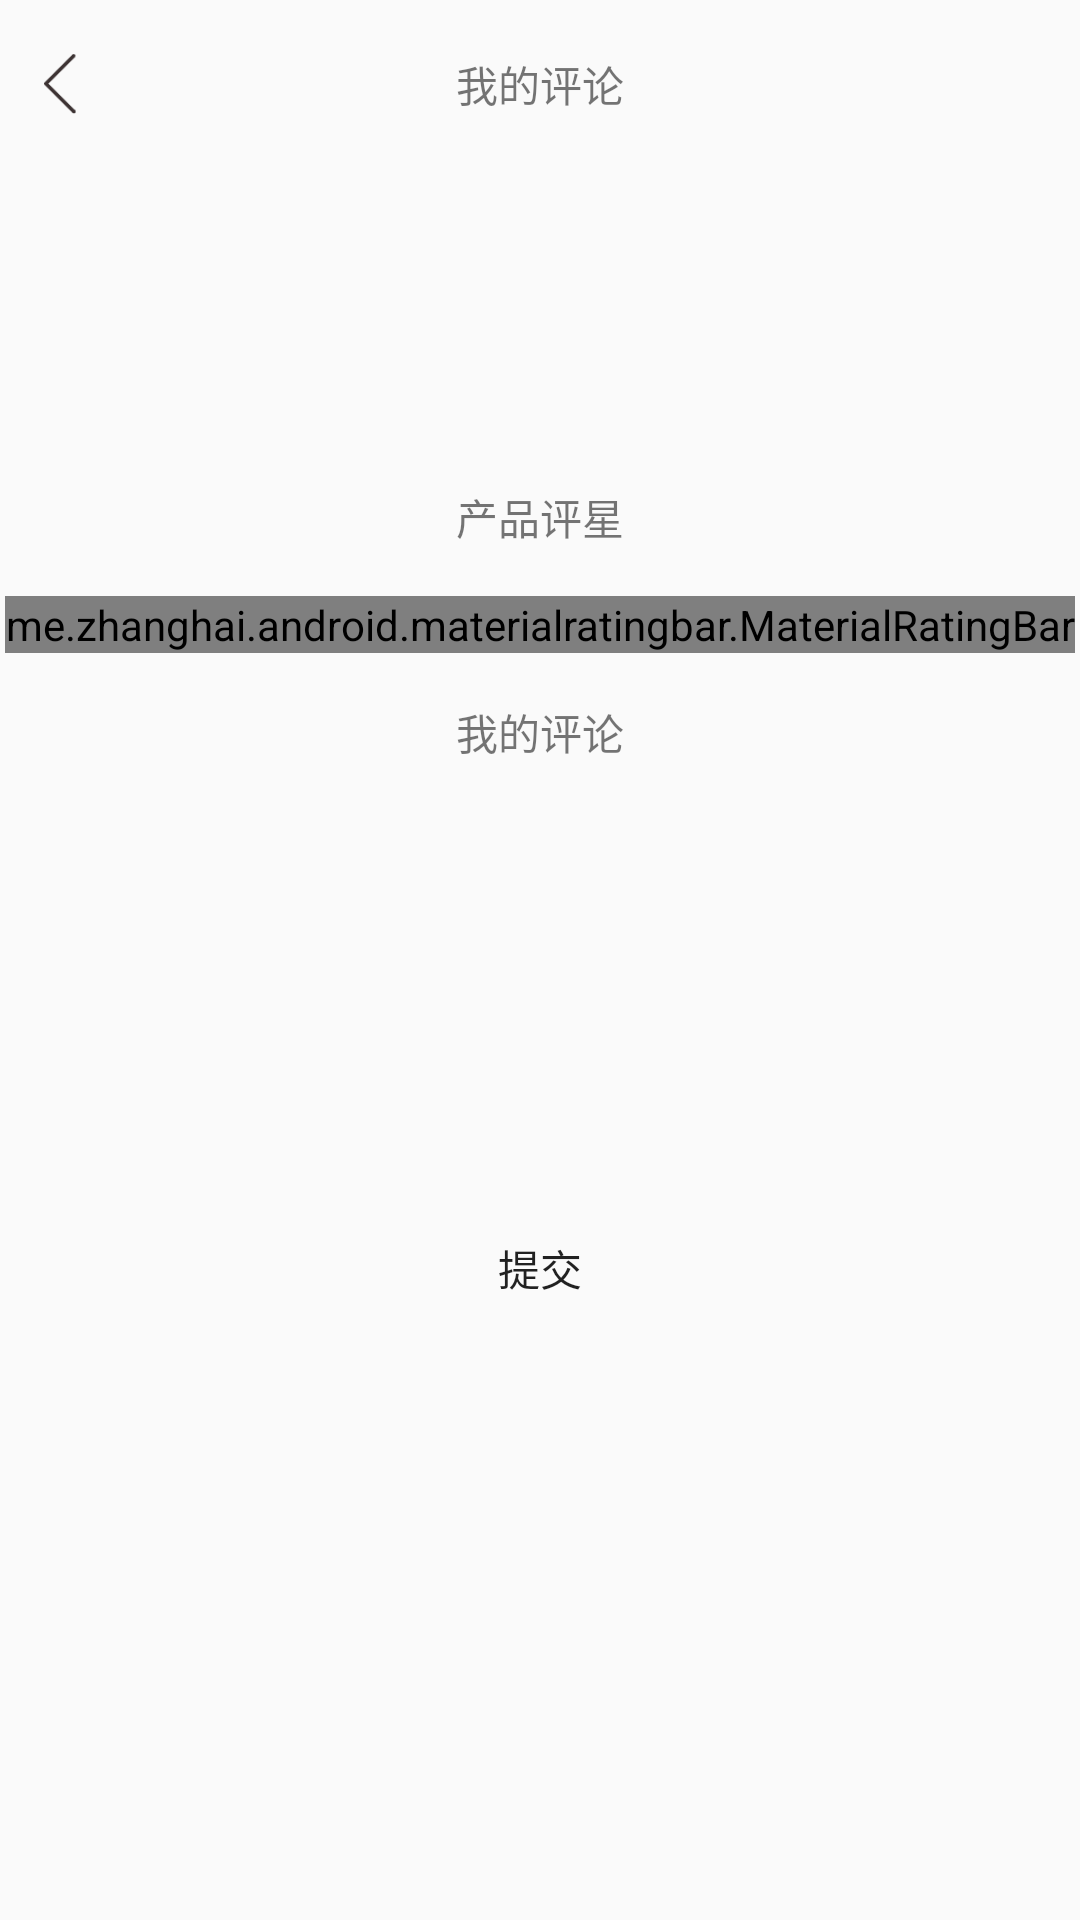

Screen size 1080w x 1920h. Icon name, then its center in pixels as (x=x, y=y):
back: (x=60, y=84)
